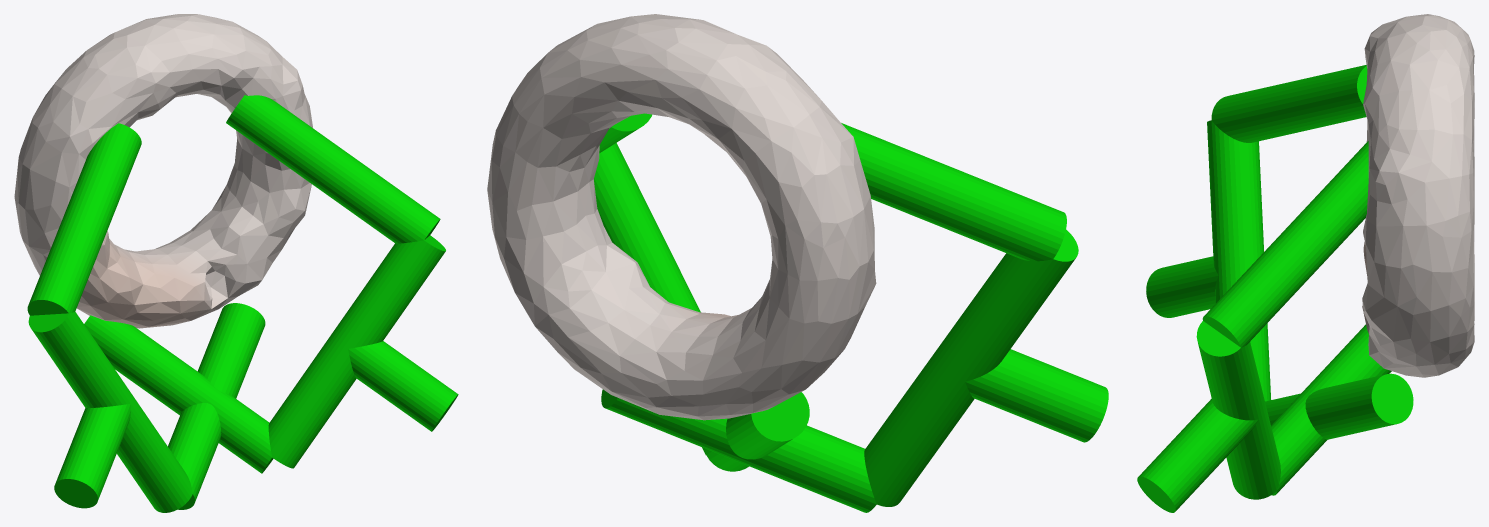
Rendered from round_000_trial_000.obj.
3 views of the same model, side by side, from view 1: azimuth 30°, elevation 25°; view 2: azimuth 150°, elevation 25°; view 3: azimuth 270°, elevation 25° (orthographic). The views are drawn at different scales.
Visible parts, largest first — view 1: geometry_0, geometry_2, geometry_1; view 2: geometry_0, geometry_1, geometry_2; view 3: geometry_0, geometry_2, geometry_1.
Boxes of the visible parts, x1=… form: geometry_0: x1=14, y1=14, x2=312, y2=328; geometry_2: x1=84, y1=95, x2=458, y2=473; geometry_1: x1=27, y1=123, x2=265, y2=512; geometry_0: x1=487, y1=14, x2=876, y2=420; geometry_1: x1=601, y1=123, x2=1108, y2=512; geometry_2: x1=594, y1=113, x2=809, y2=471; geometry_0: x1=1362, y1=14, x2=1474, y2=377; geometry_2: x1=1137, y1=141, x2=1391, y2=512; geometry_1: x1=1146, y1=65, x2=1413, y2=439.
Size of the model in its own units: 0.1018 by 0.0995 by 0.0662.
